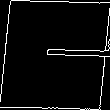L_W: (8, 38, 102, 72)
